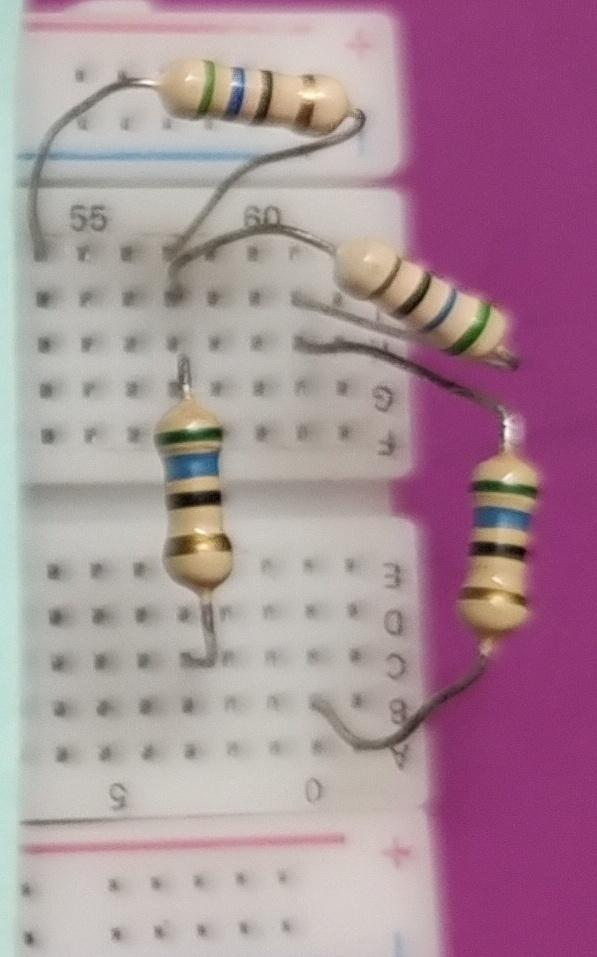resistor: (313, 212, 522, 375), (138, 53, 365, 172), (138, 392, 260, 595), (450, 437, 552, 655)
